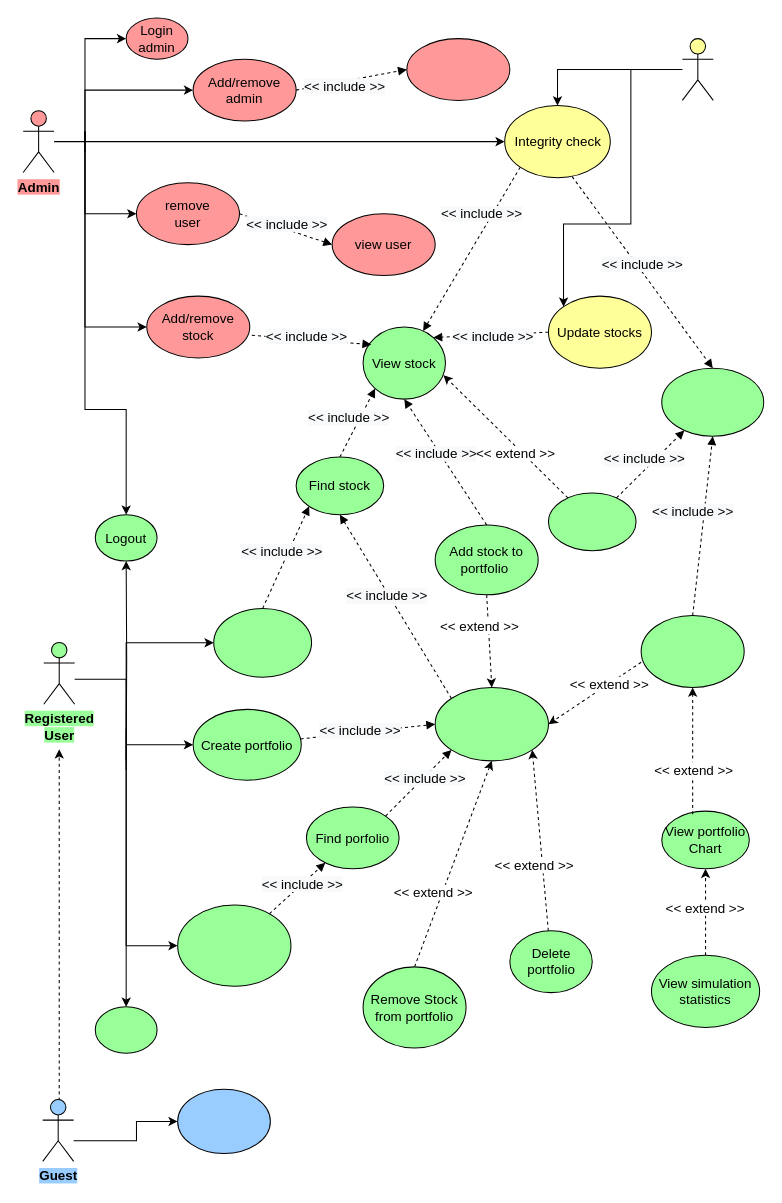
Image size: 782x1203. Some labels were removed from this diagram. The centre of each missing label's shape, as x and y in pixels:
"Browse personal portfolios" belongs at (234,945).
"Browse stocks" belongs at (262,642).
"DBupdater" belongs at (697,69).
"Login user" belongs at (125,1029).
"Register" belongs at (223,1121).
"Simulate stock portfolio" belongs at (692,651).
"view admin" belongs at (458,69).
"view historical data" belongs at (712,401).
"View portfolio" belongs at (491,723).
"View stock Chart" belongs at (591,521).
